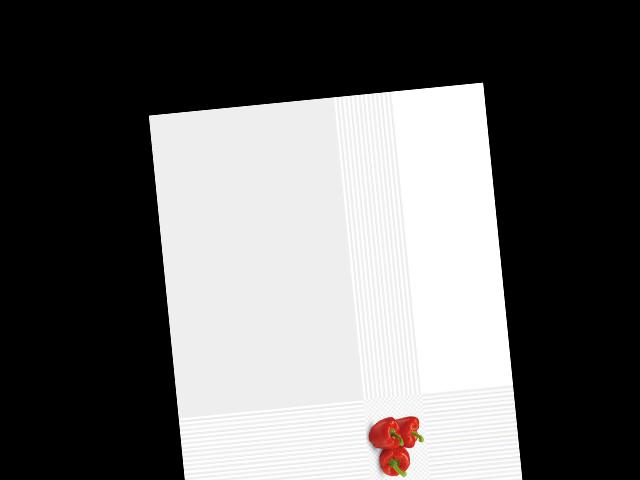bell_pepper: (375, 442, 415, 480)
